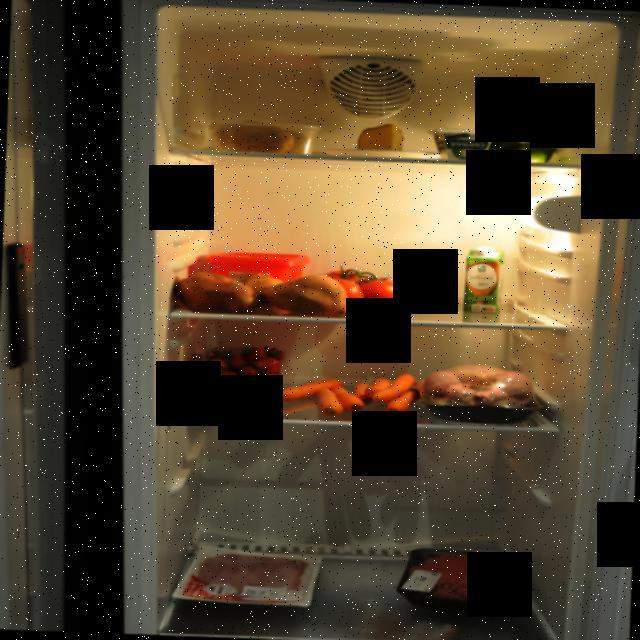butter: (207, 246, 312, 286)
carrot: (274, 368, 422, 421)
cheese: (354, 120, 408, 154)
chicken breast: (418, 360, 540, 424)
goat_cheese: (432, 125, 498, 163)
ground_beef: (398, 547, 520, 618)
ham: (192, 553, 306, 606)
heavy_cream: (461, 242, 502, 318)
lime: (473, 134, 566, 164)
potato: (204, 116, 313, 155)
strawberries: (200, 340, 290, 395)
sweet_potato: (174, 264, 353, 320)
tomato: (319, 260, 410, 312)
